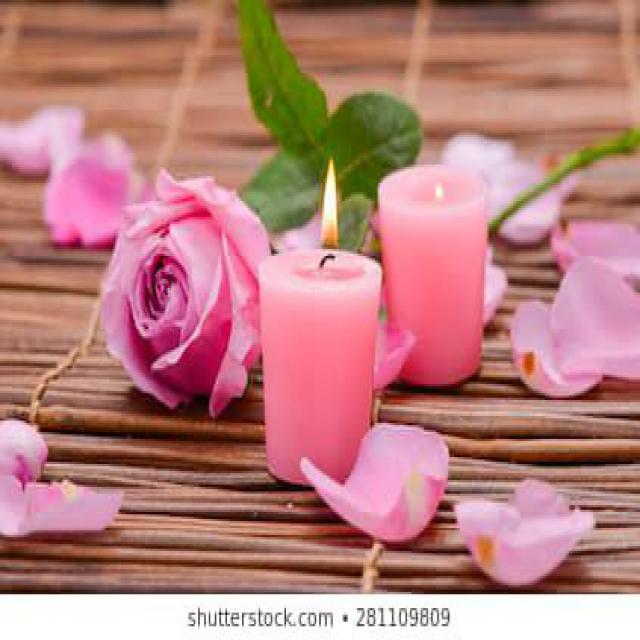Fire: (321, 157, 339, 260)
